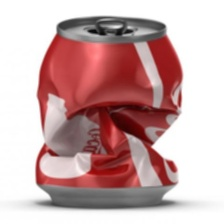can: (28, 11, 186, 213)
